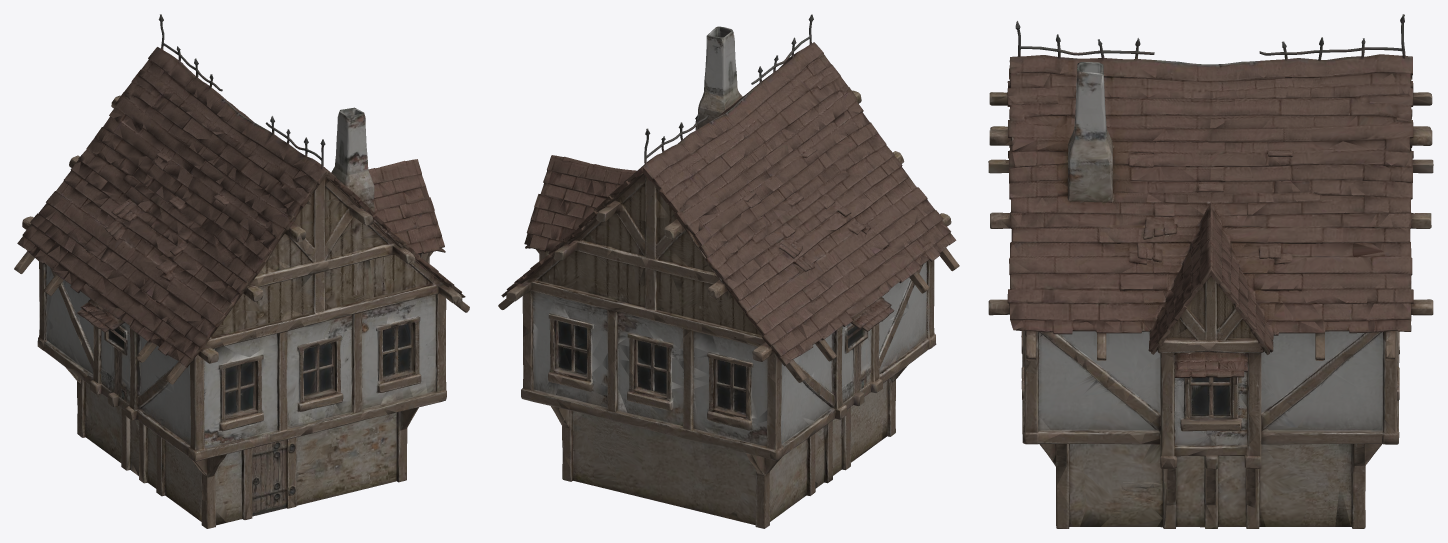
The model's file is house.fbx.
The picture shows the model from 3 angles, left to right: view 1: azimuth 30°, elevation 25°; view 2: azimuth 150°, elevation 25°; view 3: azimuth 270°, elevation 25°; orthographic projection. The views are drawn at different scales.
Parts seen in each view (by area): view 1: tripo_node_71ea473e; view 2: tripo_node_71ea473e; view 3: tripo_node_71ea473e.
Part boxes in pixels (x1,y1,x2,y2): tripo_node_71ea473e: [14, 14, 469, 528]; tripo_node_71ea473e: [498, 14, 959, 528]; tripo_node_71ea473e: [988, 14, 1433, 528].
Size of the model in its own units: 91.06 by 86.56 by 98.01.
Materials: 1 (1 with a texture image).
